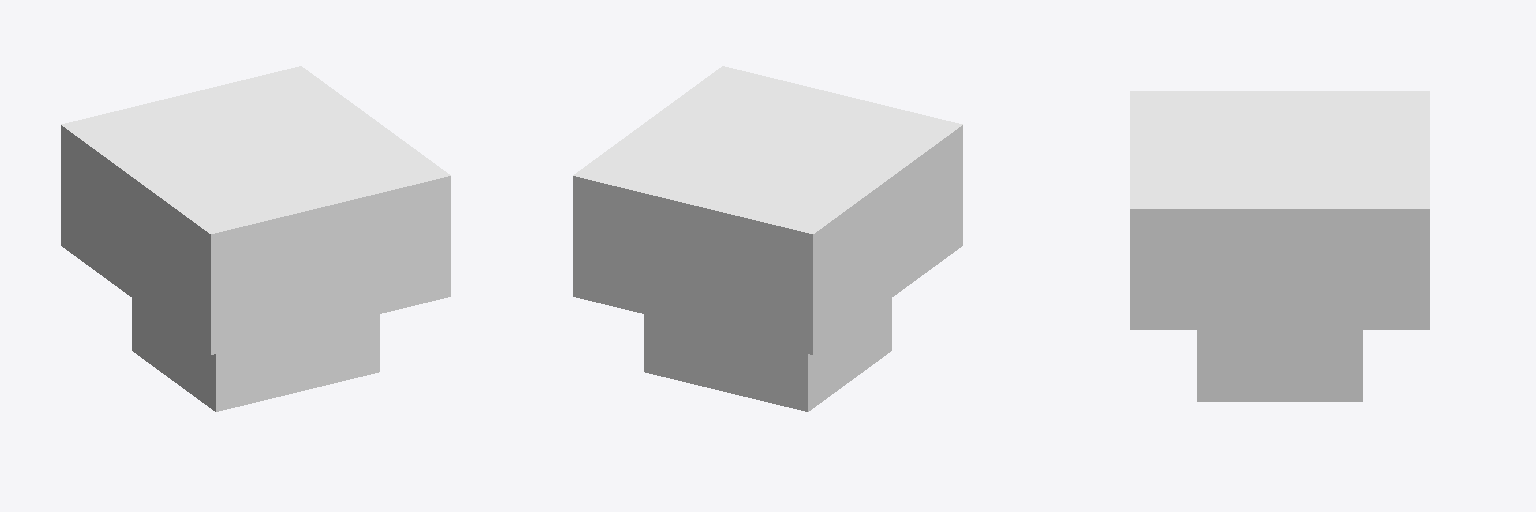
Rendered from Arbol2.obj.
3 renders of one model, left to right at view 1: azimuth 30°, elevation 25°; view 2: azimuth 150°, elevation 25°; view 3: azimuth 270°, elevation 25°, orthographic.
Bounding box in the file's own units: 25 × 21 × 27.